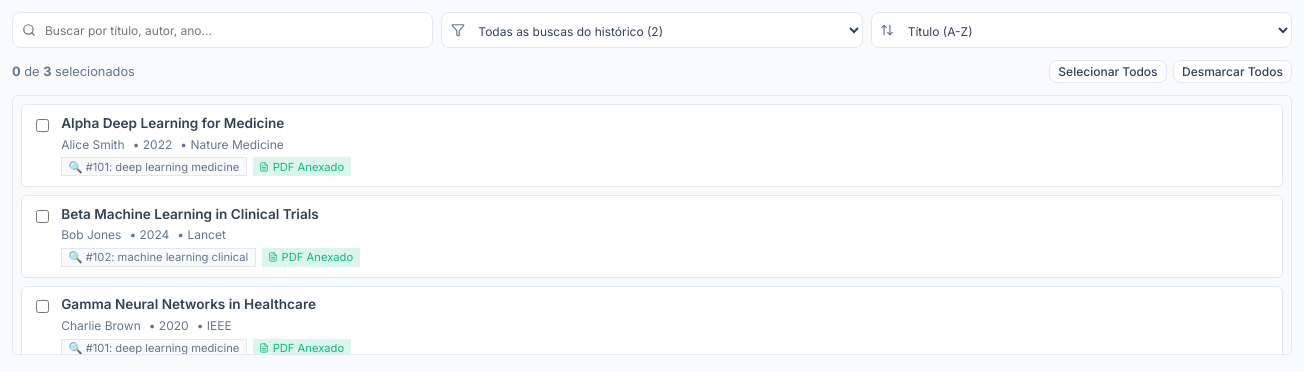
Test: ArticleSelector › filters articles by search term
In the field with placeholder "Buscar por título, autor, ano...": [223, 30] box [12, 12, 433, 48], type "Beta"
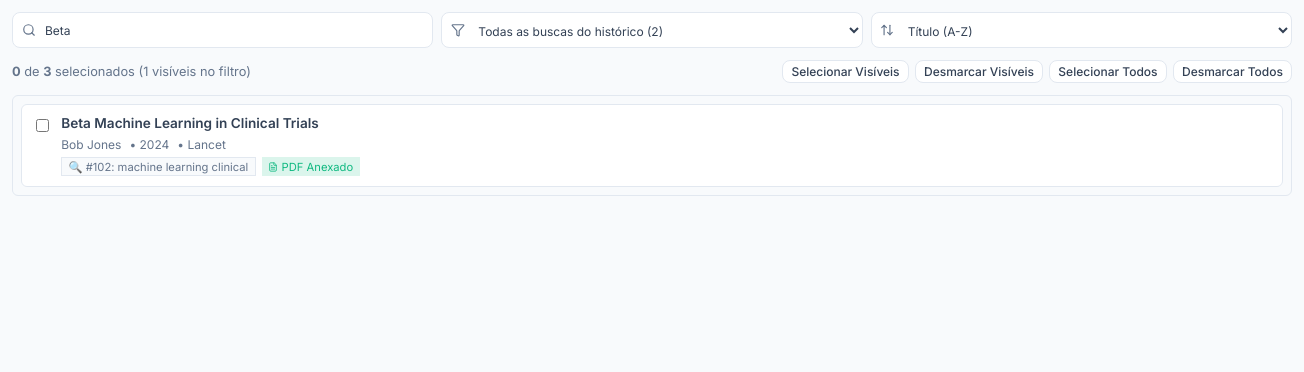
Expected: the text "Beta Machine Learning in Clinical Trials" is shown, [61, 115, 319, 131]
Expected: the text "Alpha Deep Learning for Medicine" is gone
Expected: the text "Gamma Neural Networks in Healthcare" is gone
